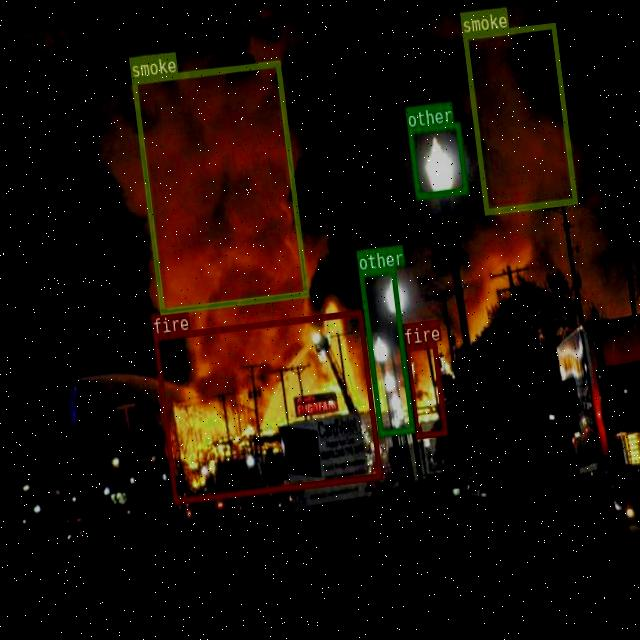fire: (152, 308, 381, 502), (403, 340, 446, 437)
smoke: (130, 60, 307, 313), (462, 21, 576, 212)
